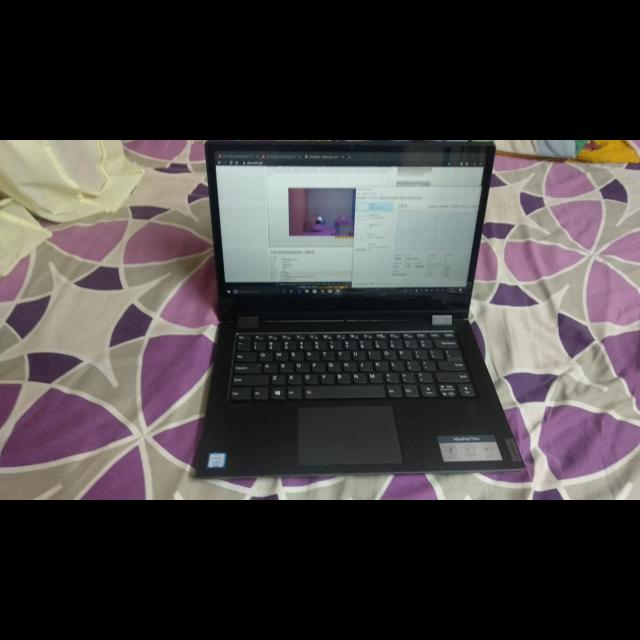Laptop: (180, 140, 540, 480)
